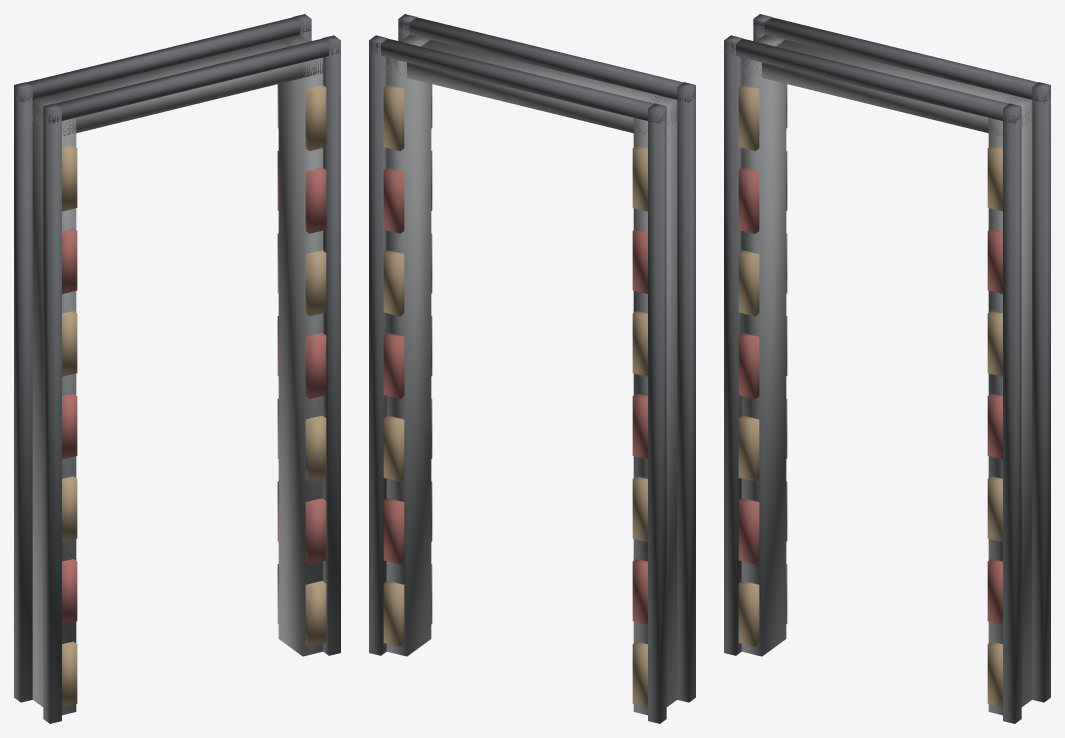
File: doorway_brick_return_w86_h210_d16.glb
The picture shows the model from 3 angles, left to right: view 1: azimuth 30°, elevation 25°; view 2: azimuth 150°, elevation 25°; view 3: azimuth 330°, elevation 25°; orthographic projection.
Visible parts, largest first — view 1: world; view 2: world; view 3: world.
Boxes of the visible parts, bbox=[...] form: world: bbox=[14, 14, 340, 723]; world: bbox=[369, 14, 695, 723]; world: bbox=[724, 14, 1050, 723].
Size of the model in its own units: 1.1 by 2.22 by 0.2365.
